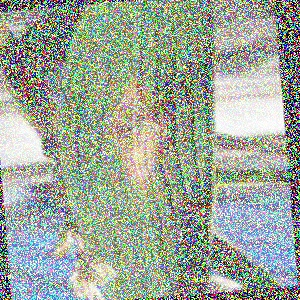Brown_Spot: (92, 63, 186, 195)
